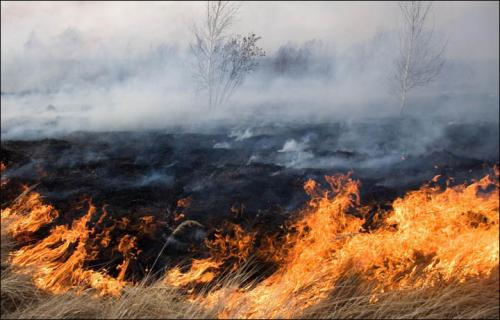fire: (301, 189, 500, 267), (15, 212, 130, 286)
